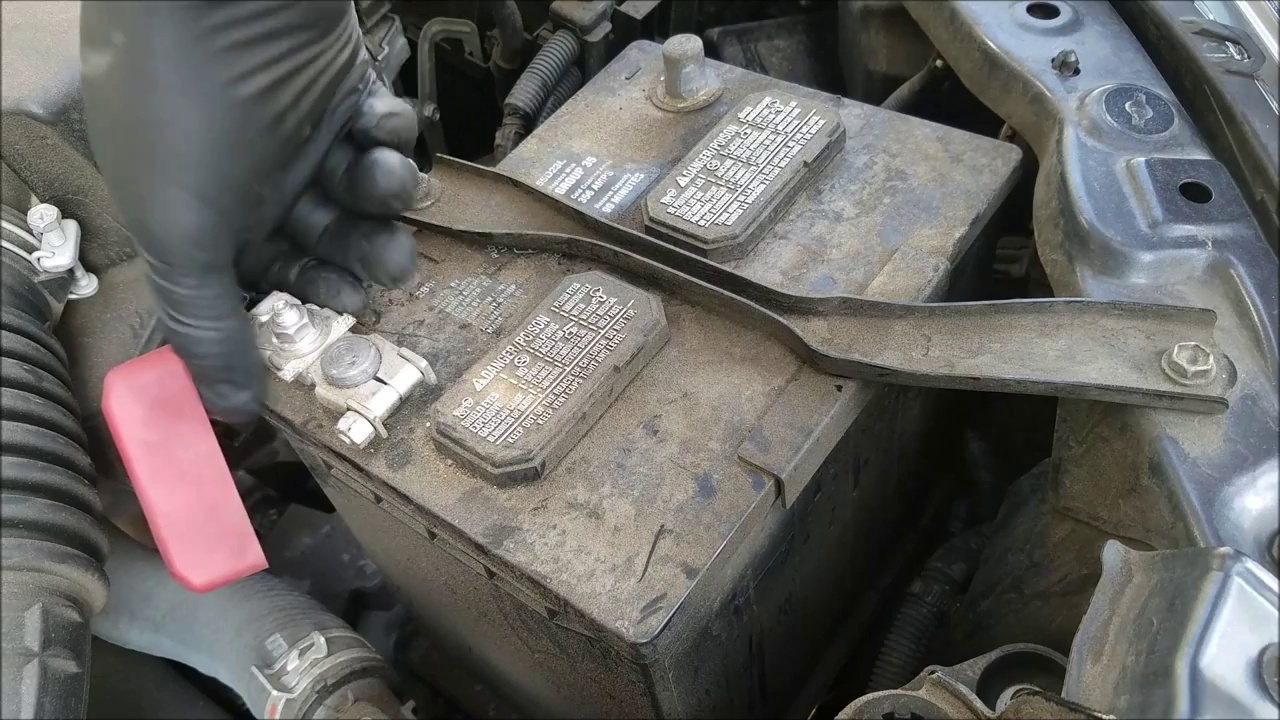battery: (220, 45, 986, 635)
neg_disconnected: (609, 12, 750, 132)
pos_connected: (83, 262, 440, 530)
pos_touched: (134, 124, 421, 511)
